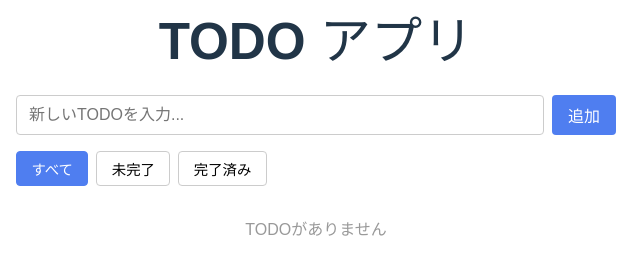
Test: App (統合テスト) › 追加した TODO が localStorage に保存される
Type "保存テスト" into the field with placeholder "新しいTODOを入力...".
click(280, 115); type("保存テスト")  # box [16,95,544,135]
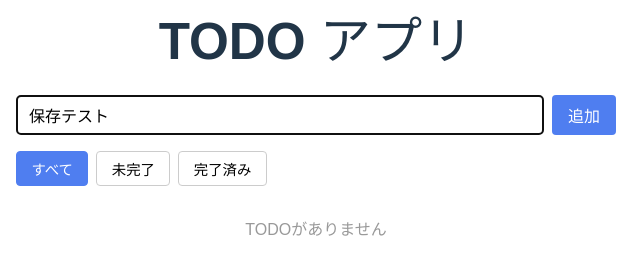
Click the button "追加".
click(584, 115)  # box [552,95,616,135]
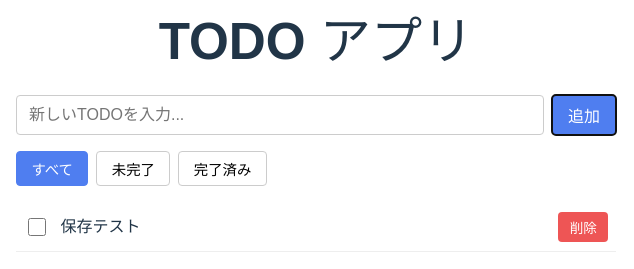
Expected: the text "保存テスト" is shown, [61,218,141,235]
